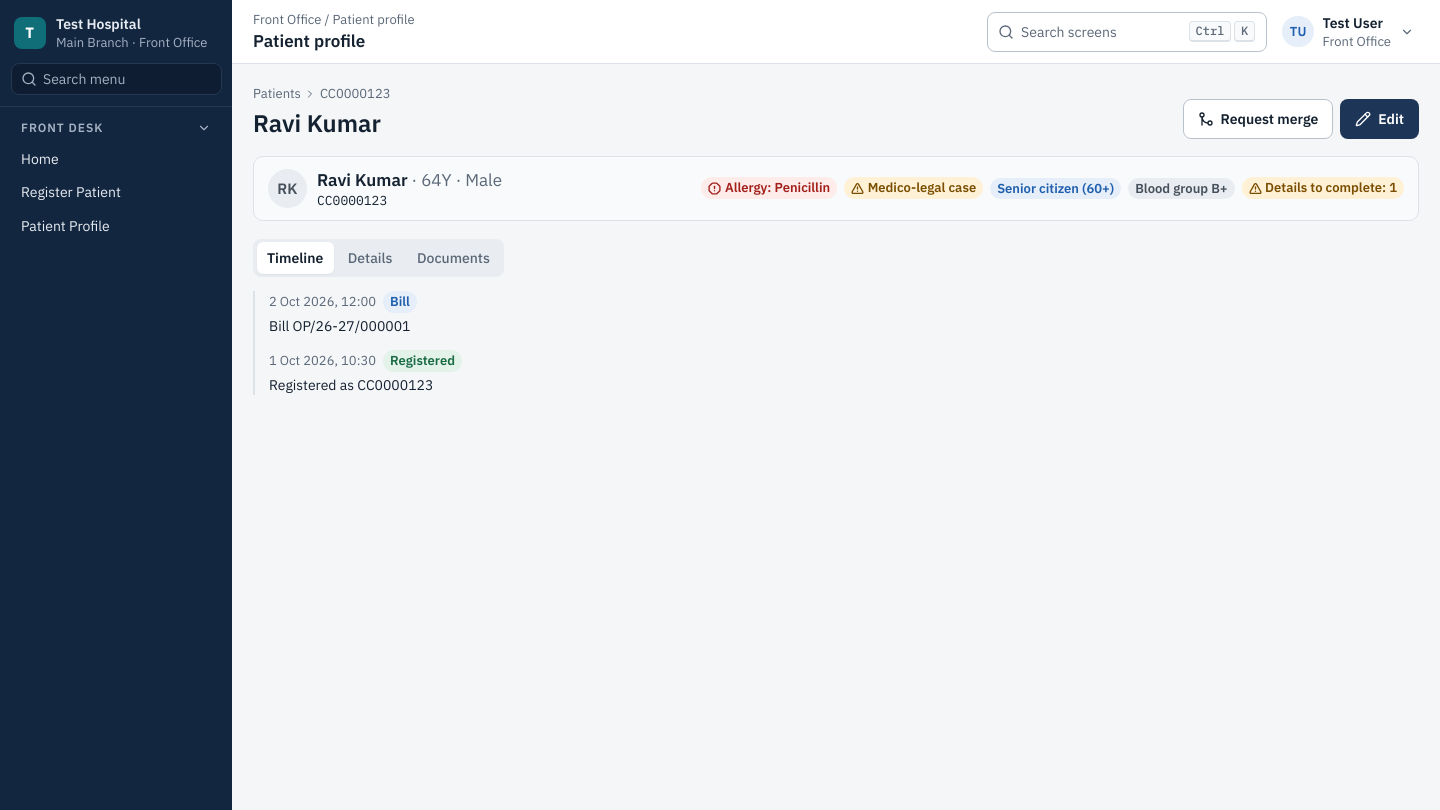
it: Patient profile › saves an edit with the version and offers reload on 409
Click the button "Edit" at (1380, 118), box left=1340, top=98, right=1419, bottom=138
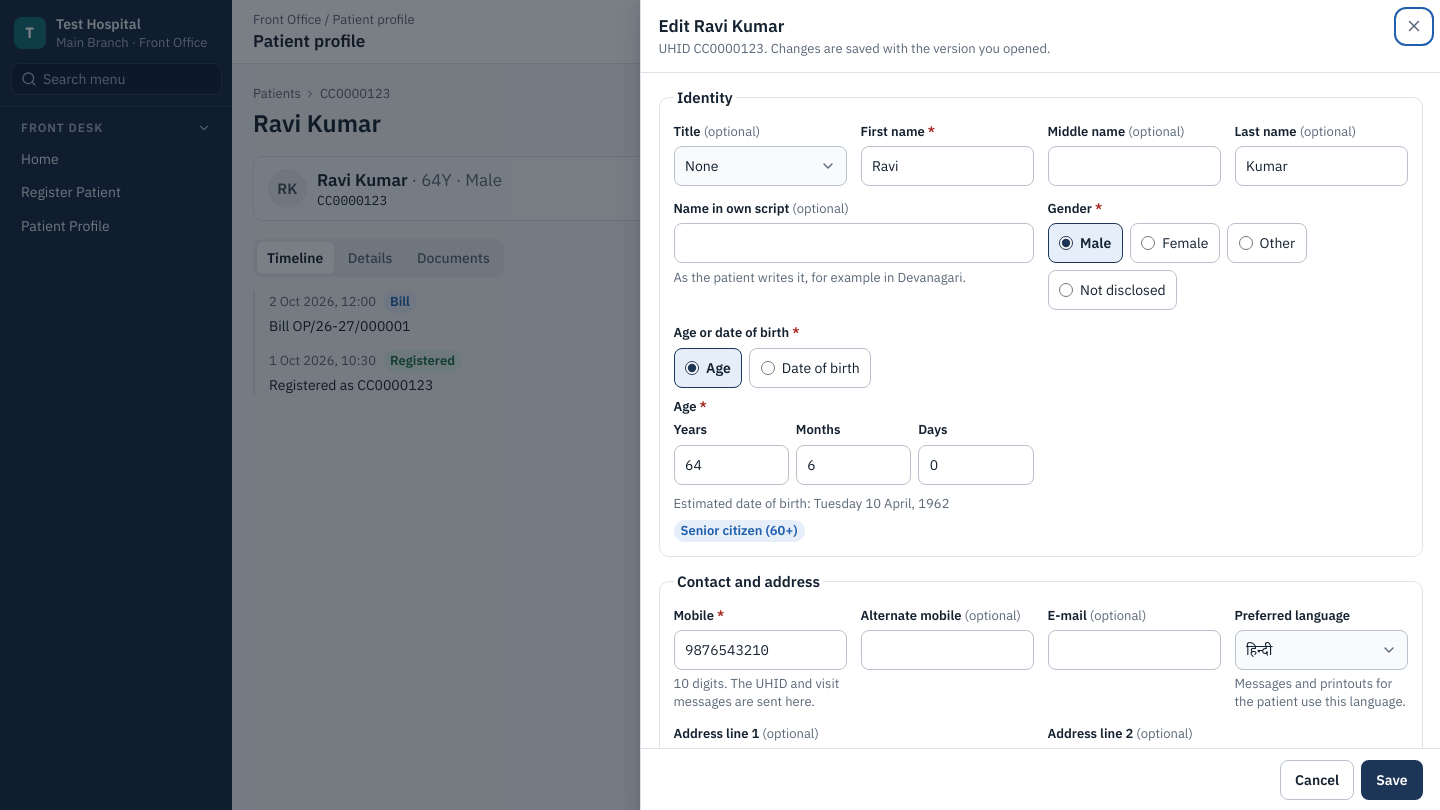
Replace the text in the field labelled "Last name (optional)" with "Kumar Rao" at (1321, 166), box left=1234, top=146, right=1408, bottom=186
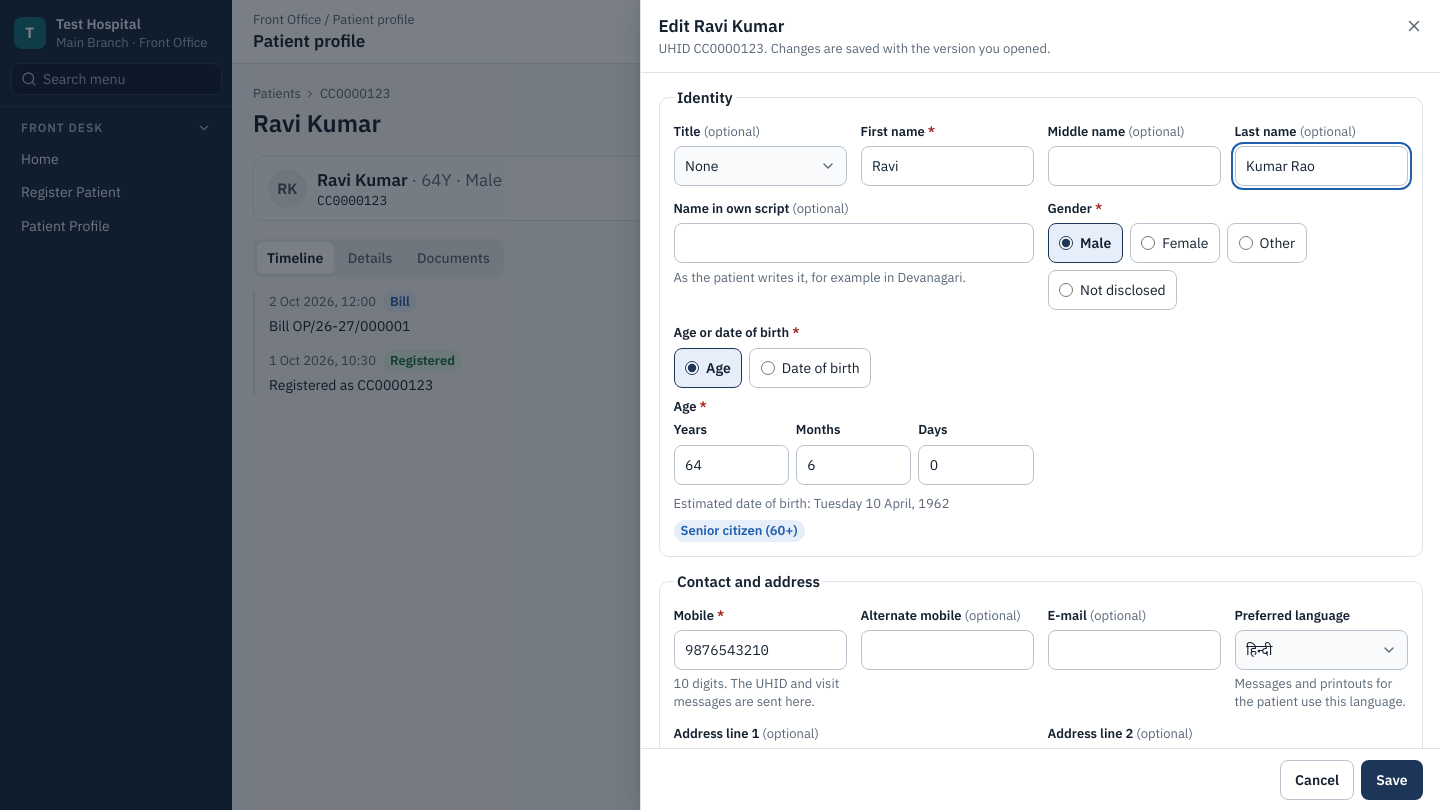
Click the button "Save" at (1392, 780), box left=1361, top=760, right=1422, bottom=800
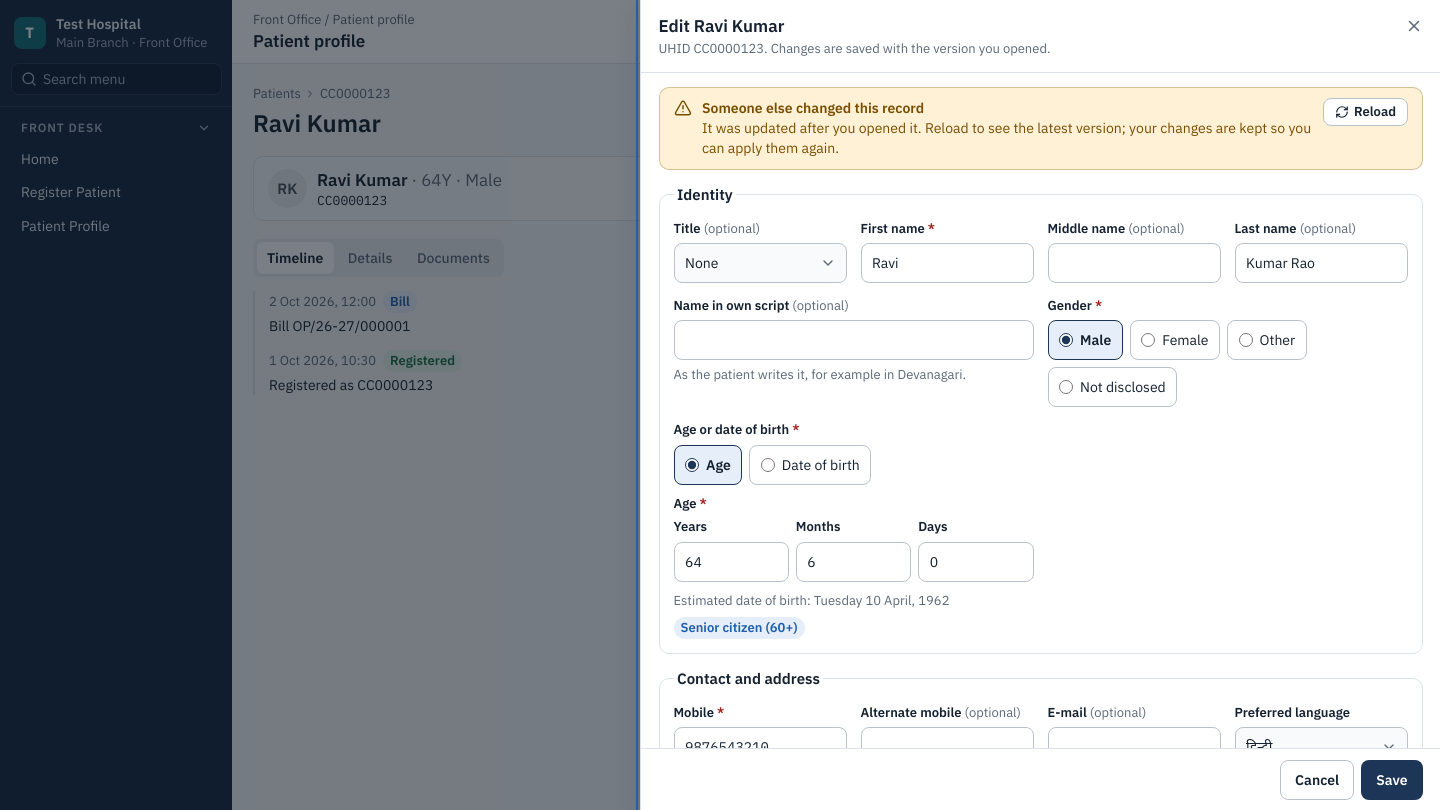
Expected: the text "Someone else changed this record" is shown, left=702, top=99, right=924, bottom=117
Expected: the button "Reload" is shown, left=1323, top=98, right=1408, bottom=126
